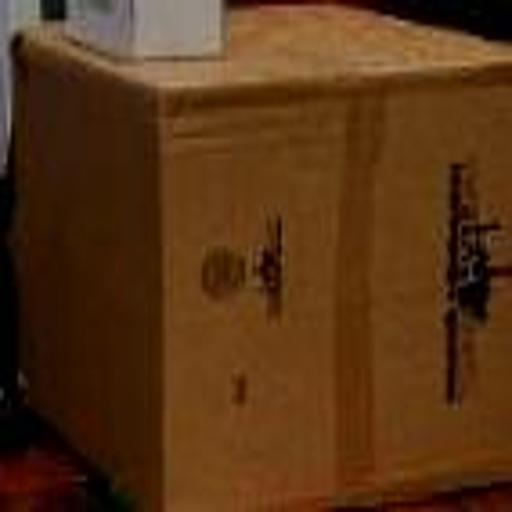Other: (13, 22, 512, 502), (57, 0, 229, 58)
